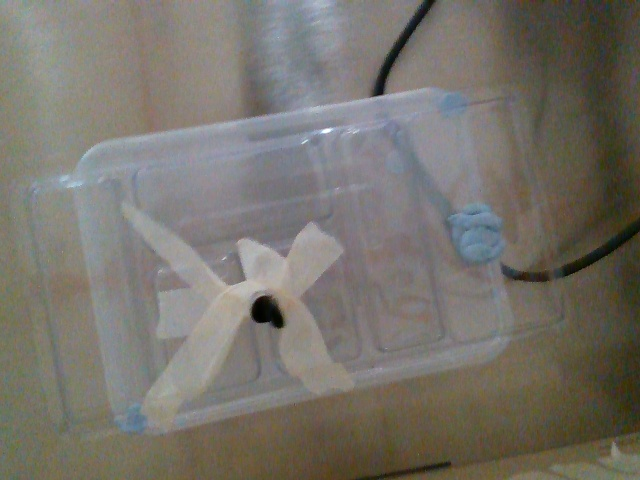test_strip: (261, 293, 283, 330)
